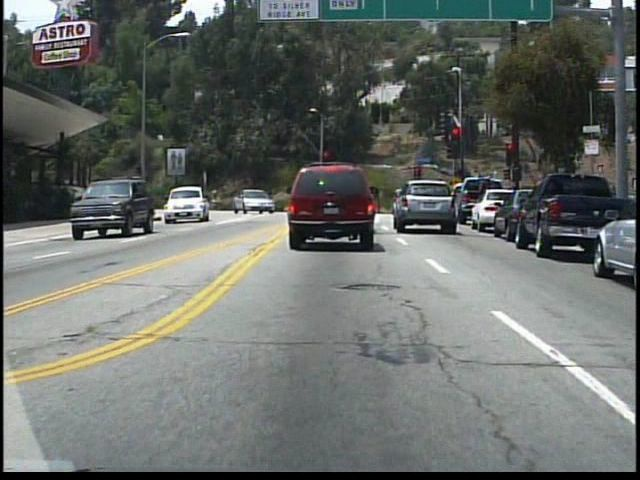person: (204, 187, 216, 212)
